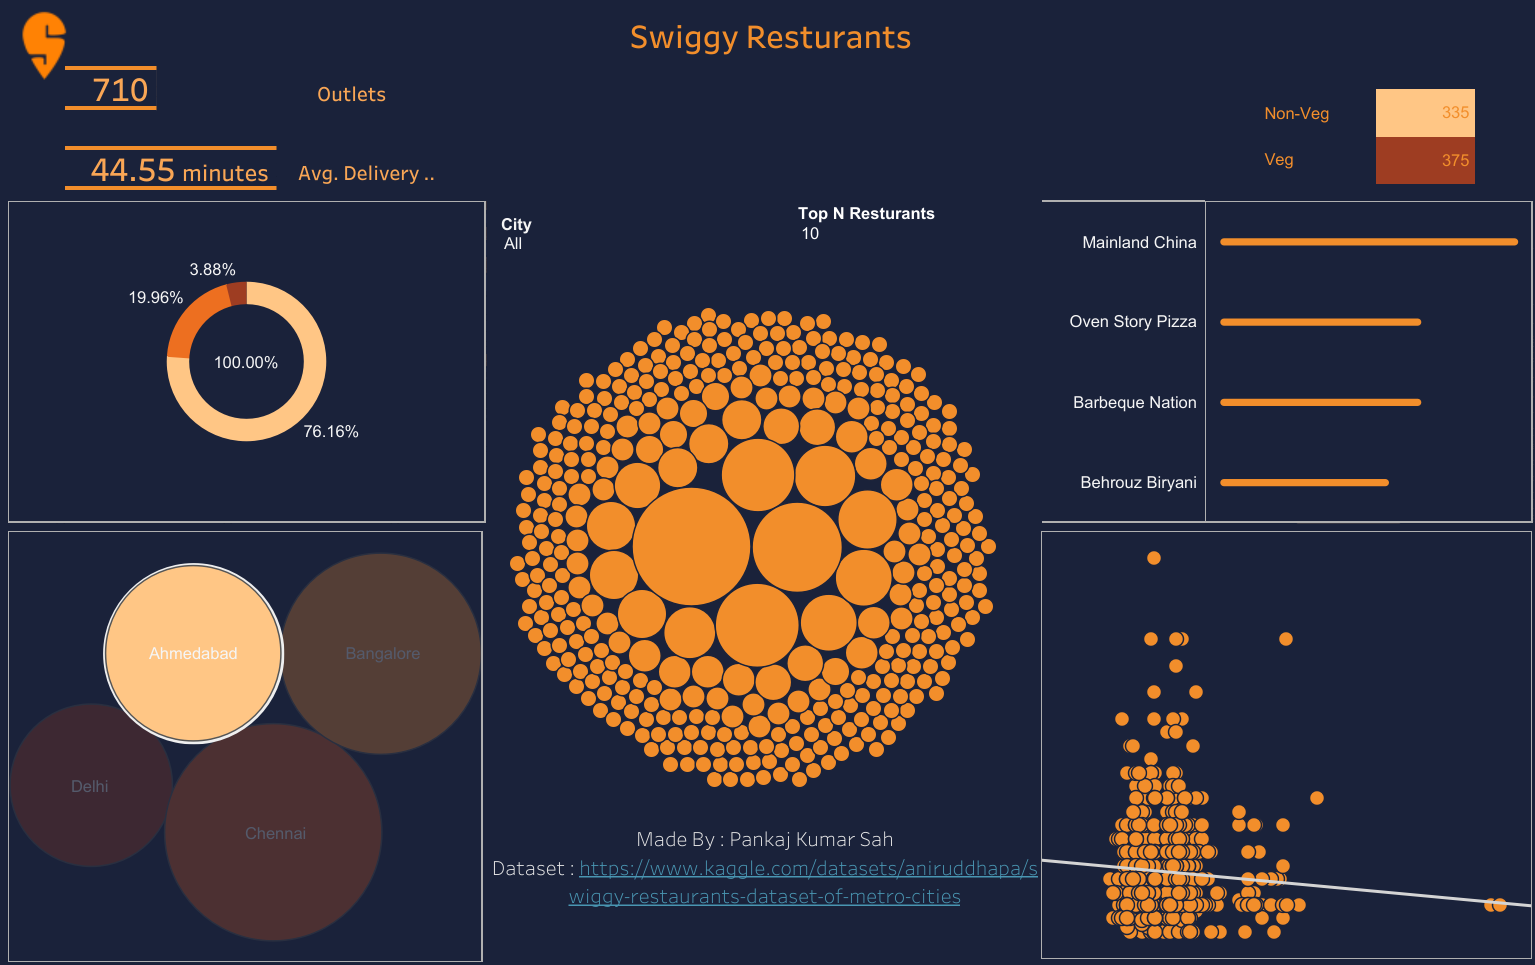

What the dashboard file says about the page in this screenshot:
{"tool":"tableau","page":{"name":"Dashboard","canvas":[1000,1000],"units":"permille","ordinal":0},"visuals":[{"type":"text","box":[4.7,9.6,994.4,54.5]},{"type":"worksheet","title":"No. of Resturants","mark":"Automatic","box":[37.1,60.6,127.9,69.9]},{"type":"text","box":[165,60.6,127.9,69.9]},{"type":"worksheet","title":"Sheet 10","mark":"Square","rows":["veg"],"box":[817.6,91.4,142.2,97.8]},{"type":"worksheet","title":"Avg. Delivery Time","mark":"Automatic","box":[37.1,142.9,147.5,69.9]},{"type":"text","box":[184.6,142.9,108.4,69.9]},{"type":"worksheet","title":"Delivery Status %","mark":"Pie","rows":["Calculation_1476899269557432324","Calculation_1476899269557432324"],"box":[4.7,208.3,311.5,333.3]},{"type":"worksheet","title":"Most Expensive Resturant","mark":"Line","rows":["name"],"box":[679.1,208.3,319,333.3]},{"type":"parameter","param":"[Parameters].[Parameter 1]","box":[519.2,209.9,149.7,101]},{"type":"filter","title":"Sheet 8","param":"[federated.088taav1wc4fo41eyzbg20iztdv3].[none:city:nk]","box":[326.5,221.2,149.7,64.1]},{"type":"worksheet","title":"Sheet 6","mark":"Circle","box":[283.4,315.7,414.4,500]},{"type":"worksheet","title":"Sheet 3","mark":"Circle","box":[4.7,549.7,309.6,447.1]},{"type":"worksheet","title":"Sheet 8","mark":"Circle","rows":["costForTwo"],"cols":["deliveryTime"],"box":[678.2,549.7,319.9,443.9]},{"type":"text","box":[315.2,830.1,365.8,133]}]}

Visuals, with their boxes on the dashboard's canvas, which has no fixed pixel size, in thousandths of its width and height (x1, y1, x2, y2). These are canvas units, not pixel positions in the 1535x965 screenshot, which may show the page scaled, cropped or inside an application window:
text: Rect(5, 10, 999, 64)
"No. of Resturants" worksheet: Rect(37, 61, 165, 130)
text: Rect(165, 61, 293, 130)
"Sheet 10" worksheet (Square marks): Rect(818, 91, 960, 189)
"Avg. Delivery Time" worksheet: Rect(37, 143, 185, 213)
text: Rect(185, 143, 293, 213)
"Delivery Status %" worksheet (Pie marks): Rect(5, 208, 316, 542)
"Most Expensive Resturant" worksheet (Line marks): Rect(679, 208, 998, 542)
parameter: Rect(519, 210, 669, 311)
"Sheet 8" filter: Rect(326, 221, 476, 285)
"Sheet 6" worksheet (Circle marks): Rect(283, 316, 698, 816)
"Sheet 3" worksheet (Circle marks): Rect(5, 550, 314, 997)
"Sheet 8" worksheet (Circle marks): Rect(678, 550, 998, 994)
text: Rect(315, 830, 681, 963)
